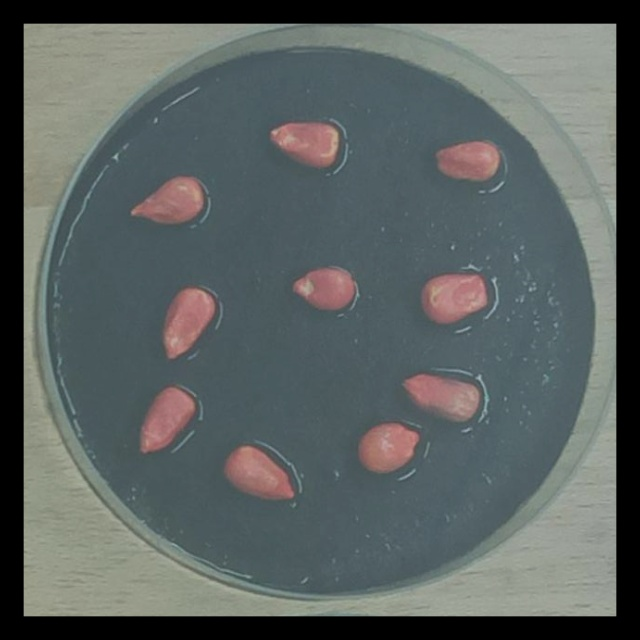Zea mays: (217, 438, 302, 507), (132, 381, 201, 463), (156, 281, 221, 367), (123, 171, 213, 233), (395, 365, 483, 428), (414, 267, 494, 333), (261, 116, 345, 174), (352, 418, 425, 481), (428, 134, 506, 189), (285, 260, 360, 316)
